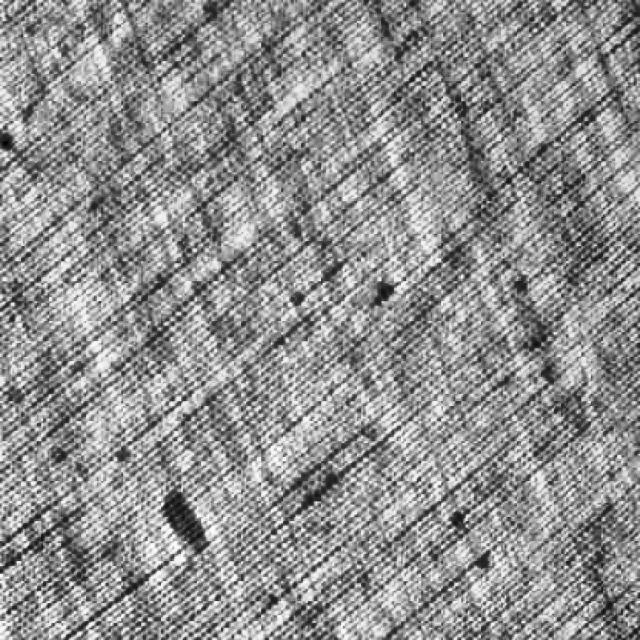oil_spot: (154, 479, 220, 563)
